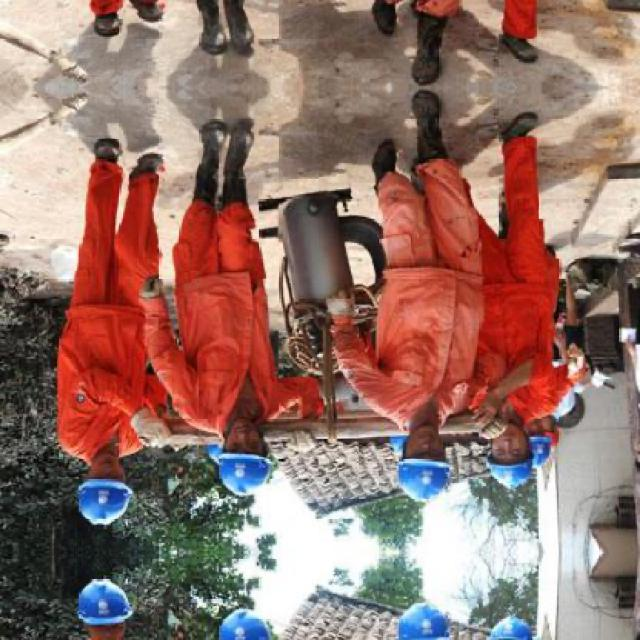con casco: (205, 388, 286, 507), (68, 406, 143, 532), (474, 410, 547, 512), (386, 403, 451, 511)
